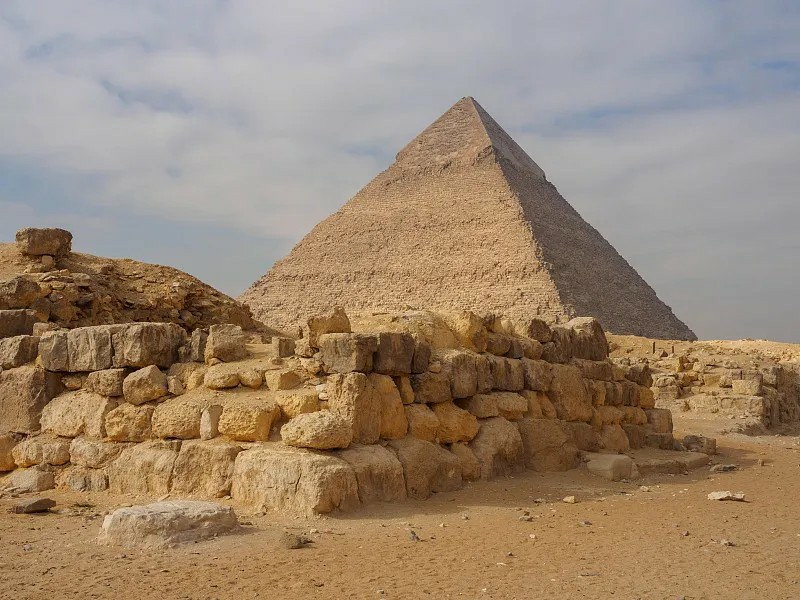Pyramid: (231, 97, 701, 341)
